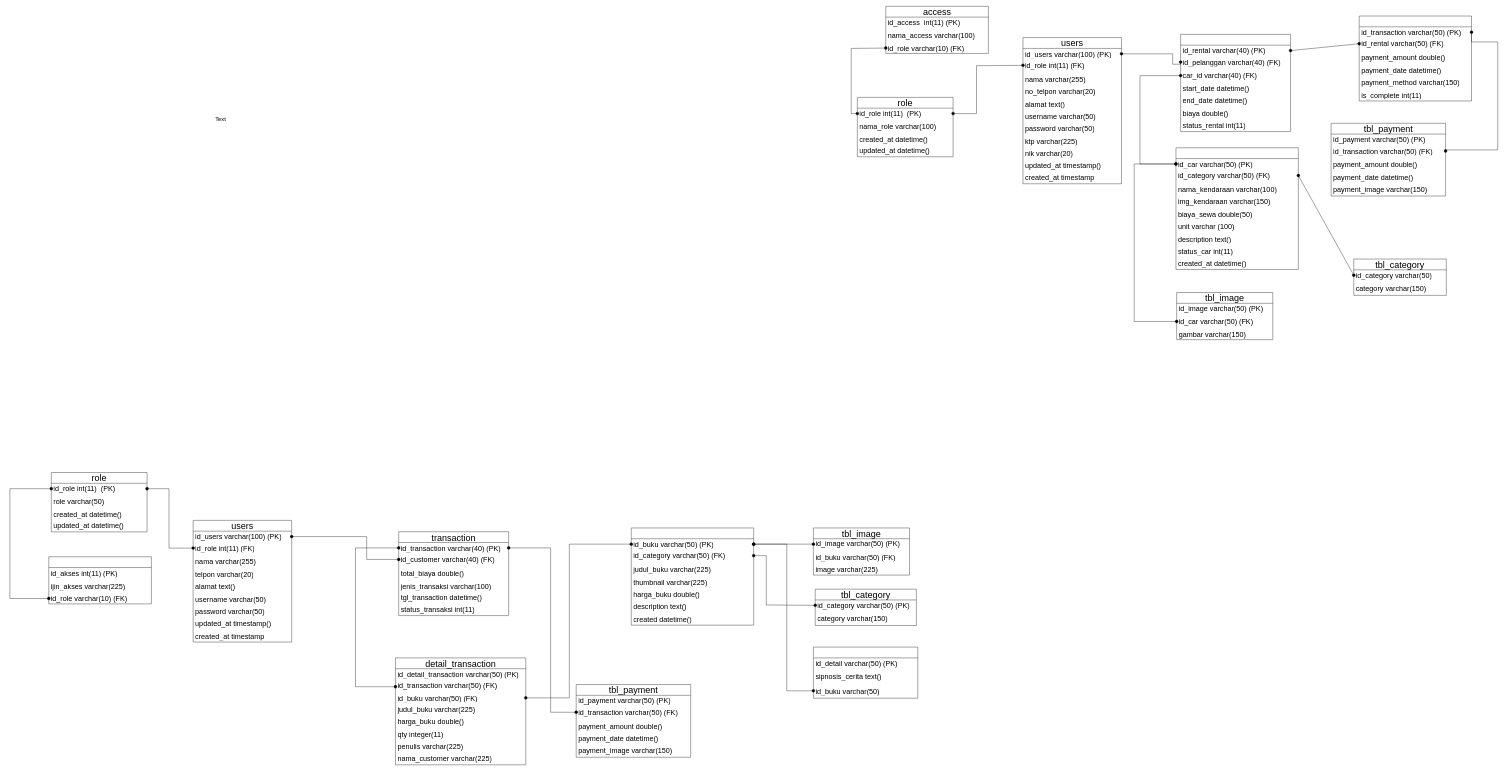
This 1508x771 diagram has some shape labels left out. Here are the shapes that lost their labels. From the top down, the box of each, then its label:
(1359, 16, 1472, 101): tbl_transaction
(1180, 34, 1291, 132): tbl_rental
(1176, 147, 1298, 269): tbl_car
(48, 556, 151, 604): tbl_akses
(631, 528, 754, 625): tbl_buku
(813, 647, 918, 698): tbl_detail_buku
